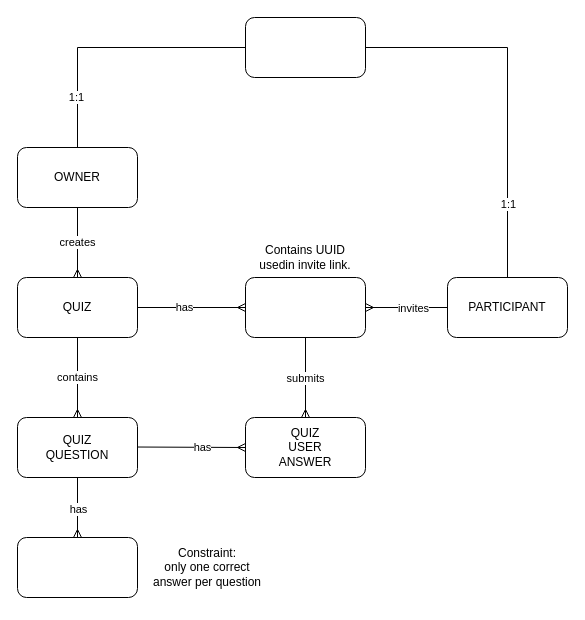
The diagram is 585 pixels wide and 620 high, and some of its shapes have lost their labels. Each missing label, with the centre of its shape:
QUIZ QUESTION ANSWER: point (77, 567)
QUIZ SUBMISSION: point (305, 307)
USER: point (305, 47)
